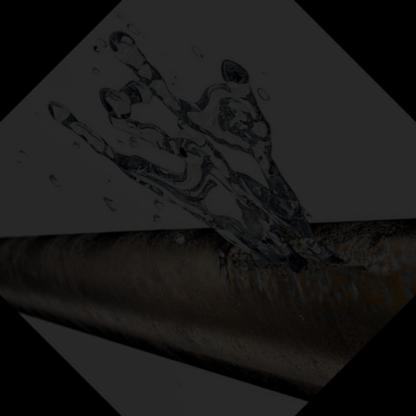burst: (170, 226, 373, 303)
